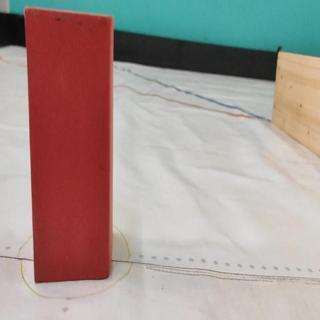redbox: (25, 7, 114, 284)
